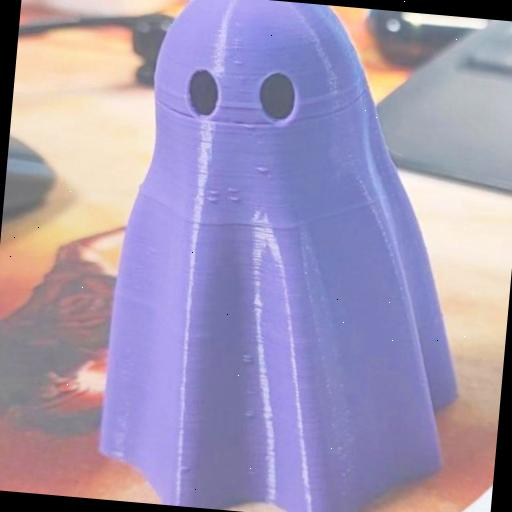blobs: (235, 348, 262, 369), (251, 158, 274, 182), (237, 408, 261, 426), (228, 36, 247, 53), (222, 194, 242, 210), (202, 184, 223, 198), (223, 183, 242, 197), (202, 194, 224, 206), (228, 56, 242, 68)
